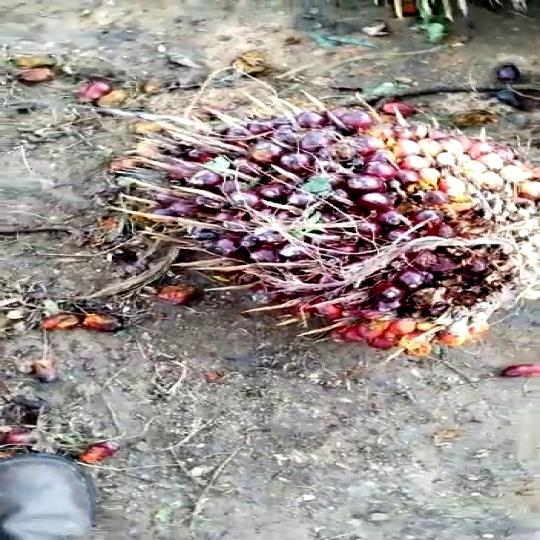masak: (130, 107, 540, 353)
